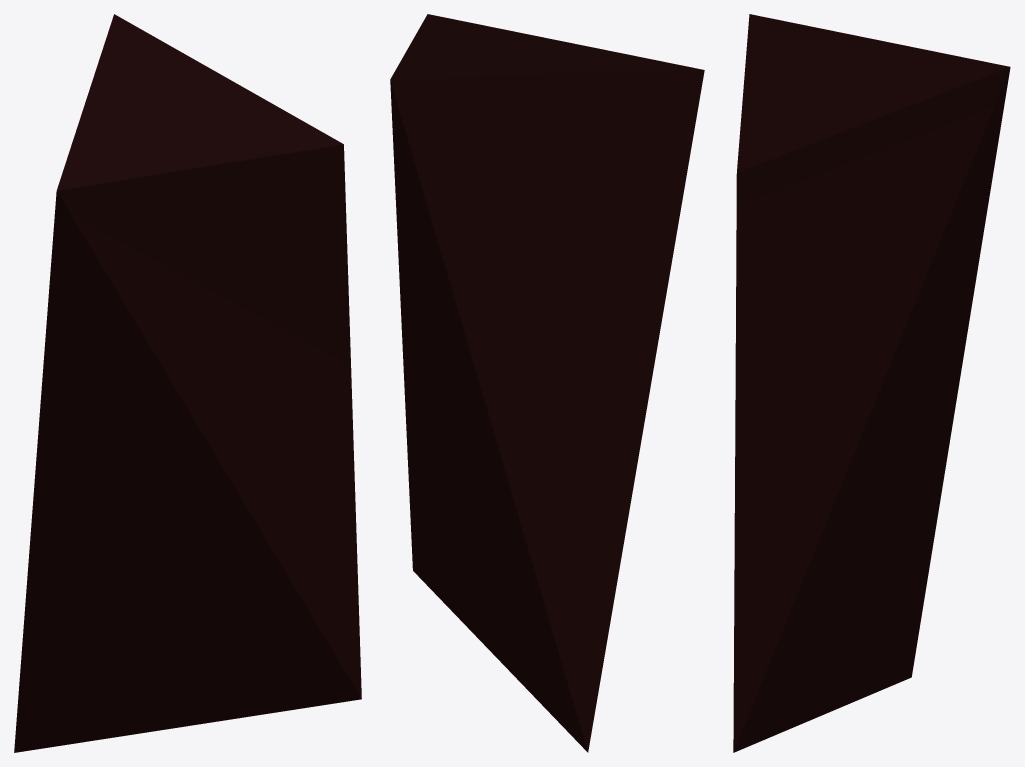
Rendered from tf_talus_chunk_2_lod2.glb.
3 views of the same model, side by side, from view 1: azimuth 30°, elevation 25°; view 2: azimuth 150°, elevation 25°; view 3: azimuth 270°, elevation 25° (orthographic). The views are drawn at different scales.
Visible parts, largest first — view 1: tf_talus_chunk_2_lod2; view 2: tf_talus_chunk_2_lod2; view 3: tf_talus_chunk_2_lod2.
Boxes of the visible parts, left/top/right/bottom form: tf_talus_chunk_2_lod2: left=14, top=14, right=361, bottom=752; tf_talus_chunk_2_lod2: left=390, top=14, right=704, bottom=752; tf_talus_chunk_2_lod2: left=733, top=14, right=1010, bottom=752.
Size of the model in its own units: 0.7642 by 1.64 by 0.6012.
